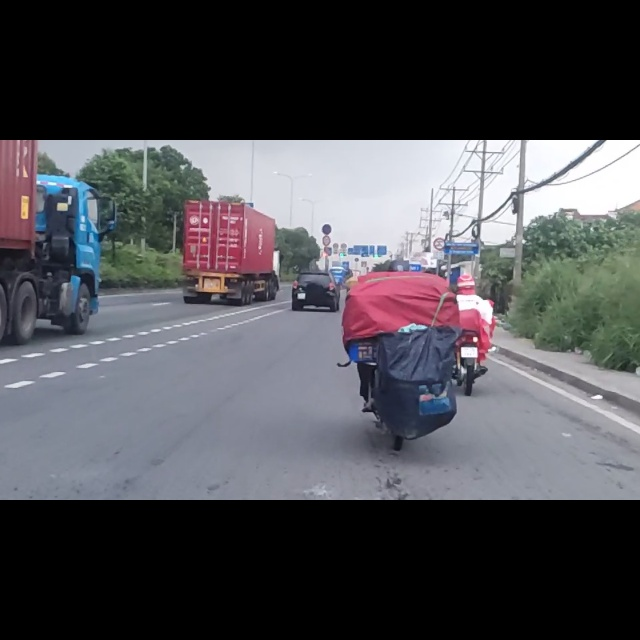bien_cam: (433, 173, 446, 196), (321, 148, 333, 167)
